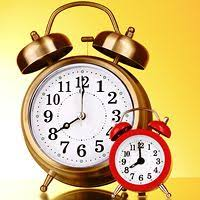alarm_clock: (16, 1, 172, 196), (16, 6, 172, 196)
